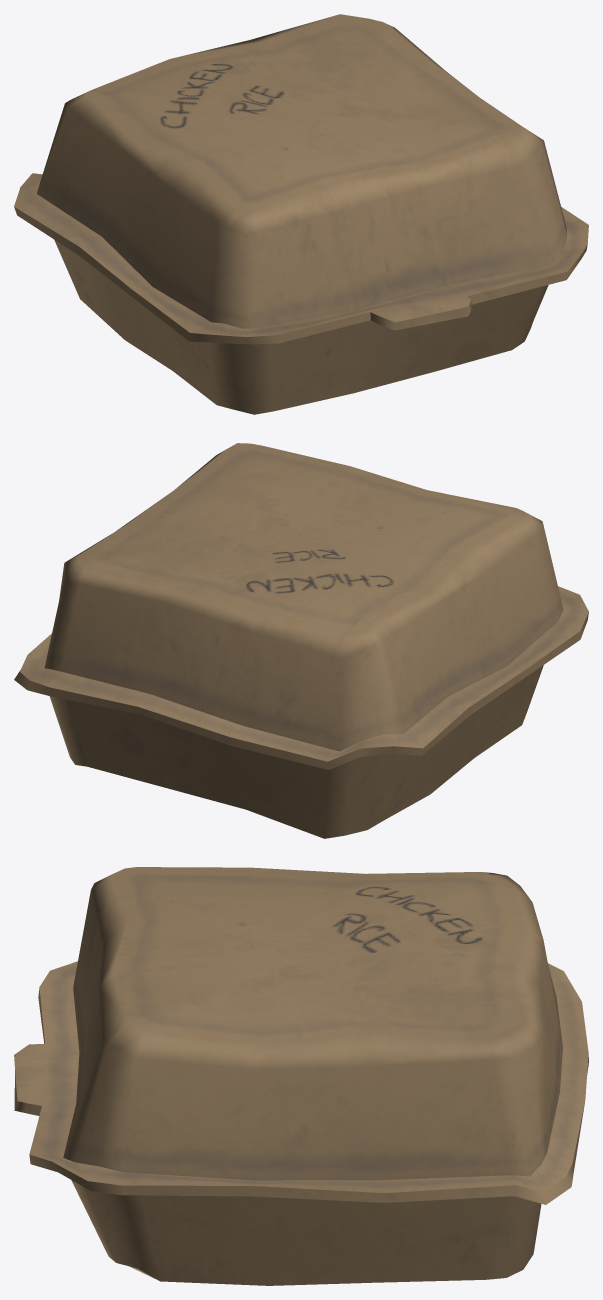
File: SM_Small_Trash_Debris_02.FBX
3 views of the same model, one above another, from view 1: azimuth 30°, elevation 25°; view 2: azimuth 150°, elevation 25°; view 3: azimuth 270°, elevation 25° (orthographic). The views are drawn at different scales.
Visible parts, largest first — view 1: SM_Small_Trash_Debris_02_LOD0; view 2: SM_Small_Trash_Debris_02_LOD0; view 3: SM_Small_Trash_Debris_02_LOD0.
Boxes of the visible parts, bbox=[...] form: SM_Small_Trash_Debris_02_LOD0: bbox=[14, 14, 588, 414]; SM_Small_Trash_Debris_02_LOD0: bbox=[14, 443, 588, 838]; SM_Small_Trash_Debris_02_LOD0: bbox=[14, 867, 588, 1285].
Size of what is drawn, in the model's own units: 18.59 by 19.23 by 9.56.
